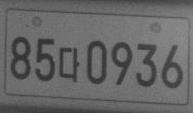0: (85, 40, 107, 85)
3: (135, 43, 158, 87)
5: (34, 37, 55, 82)
6: (160, 44, 183, 89)
8: (9, 35, 31, 80)
9: (110, 40, 133, 86)
다: (58, 46, 80, 82)
